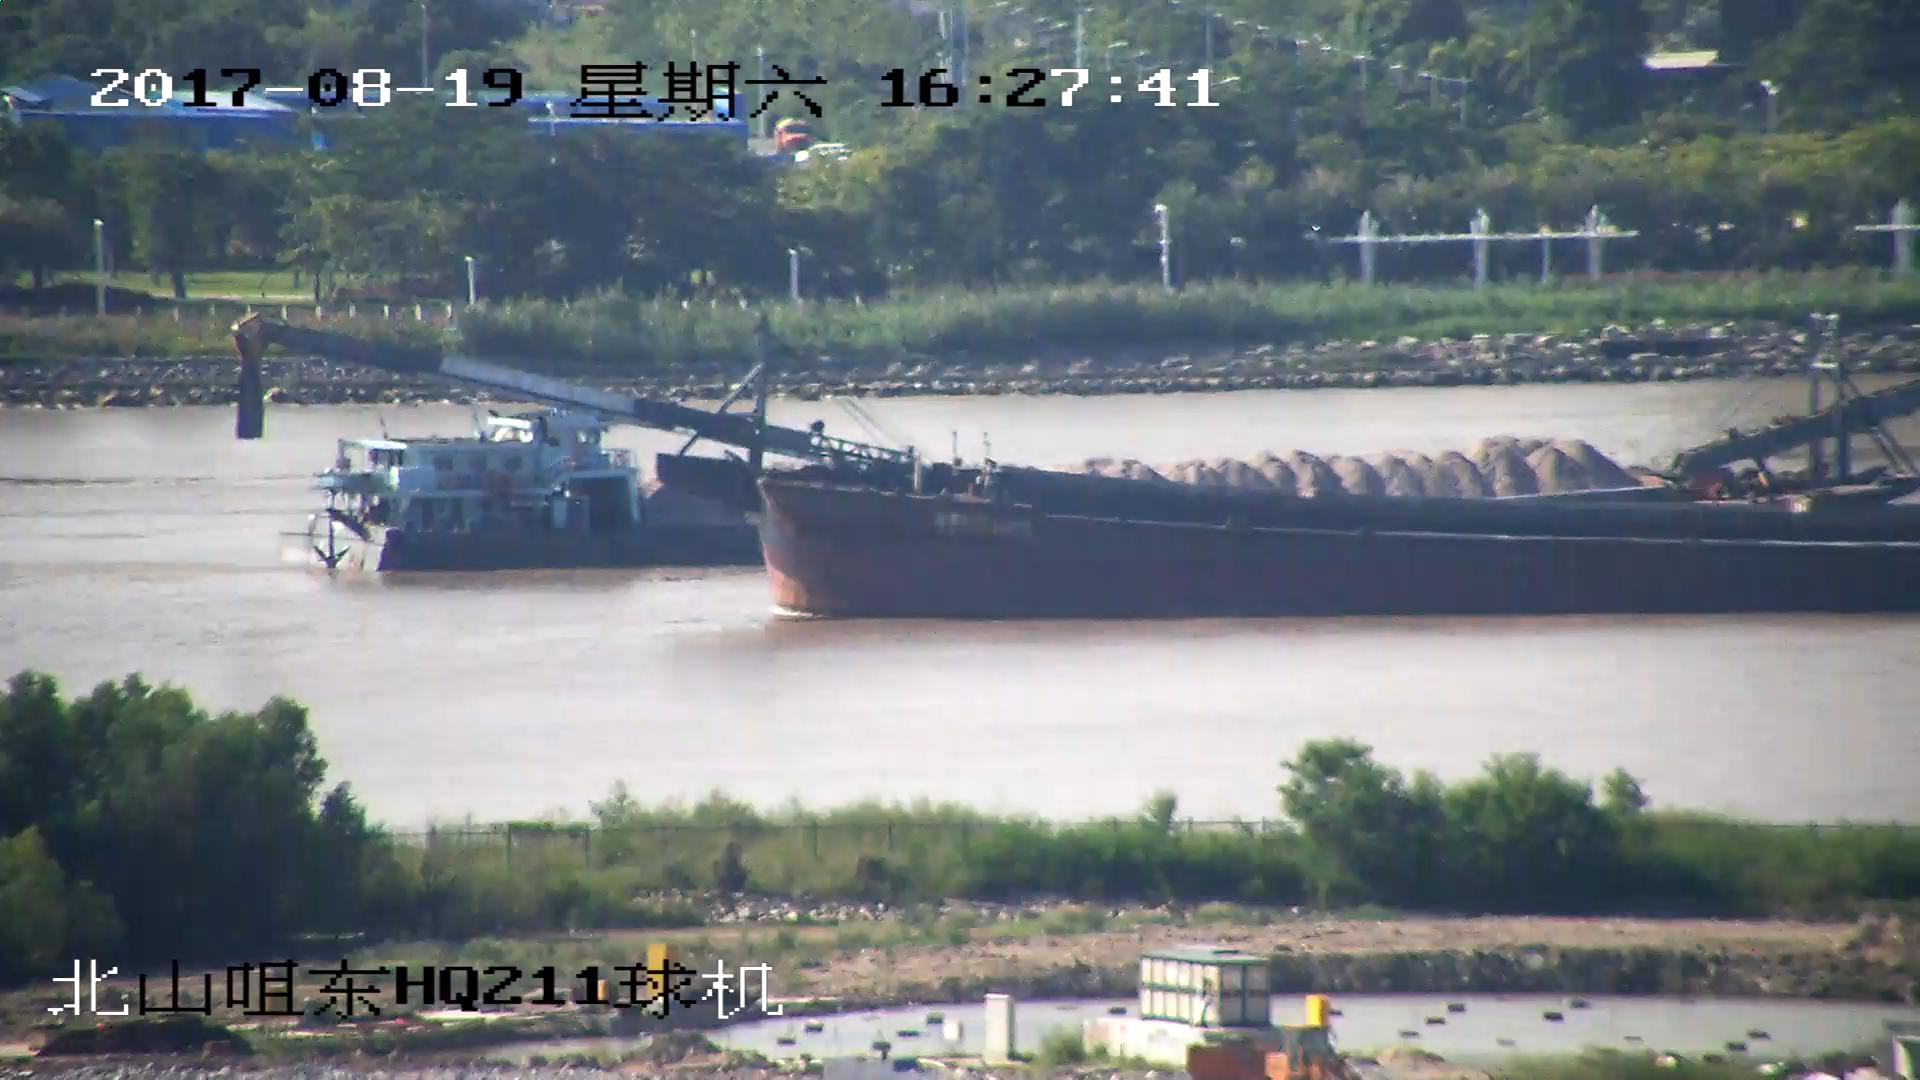bulk cargo carrier: (224, 323, 1919, 616)
ore carrier: (305, 389, 1920, 578)
